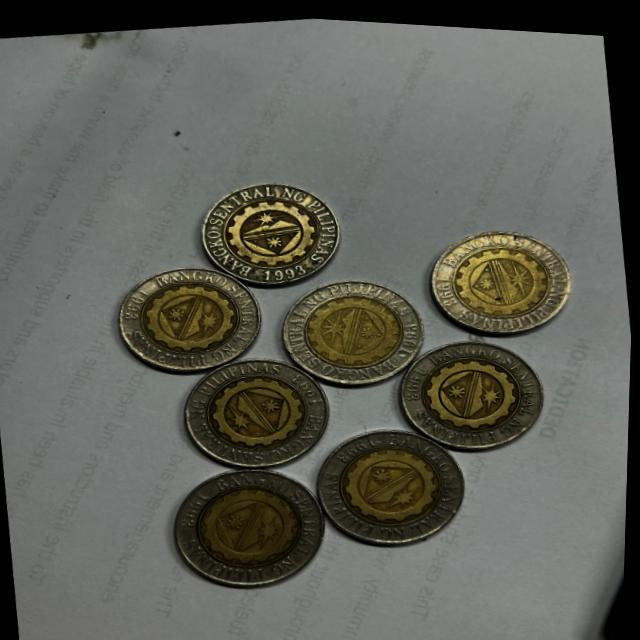10_Old_Back: (280, 271, 426, 382), (330, 422, 465, 537), (193, 349, 323, 462), (434, 218, 566, 327), (191, 464, 316, 578), (207, 175, 338, 281), (127, 264, 251, 369)
